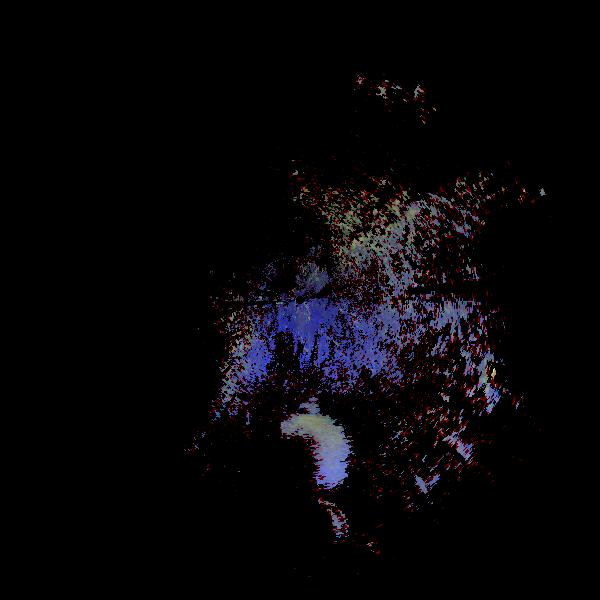roost: (266, 410, 350, 494), (300, 500, 348, 548)
